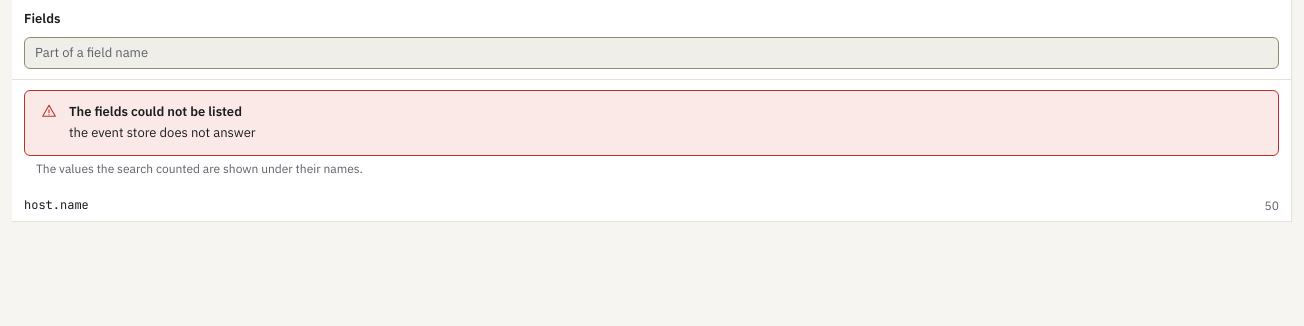
Test: the fields of a case beside its events › says so when the fields cannot be listed, and still shows what the search counted
expect the message shows "The fields could not be listed": met, box 69,103 -> 242,120
expect the message shows "the event store does not answer": met, box 69,124 -> 256,141
Click the button "host.name 50" at point(56, 205), box 12,191 -> 1291,221
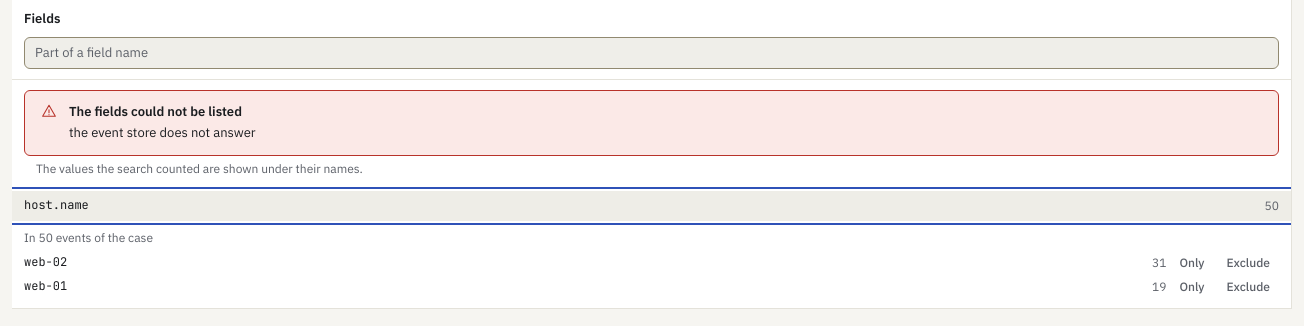
expect the button with aria-label "Only host.name web-02" is shown: met, box 1170,250 -> 1213,274
